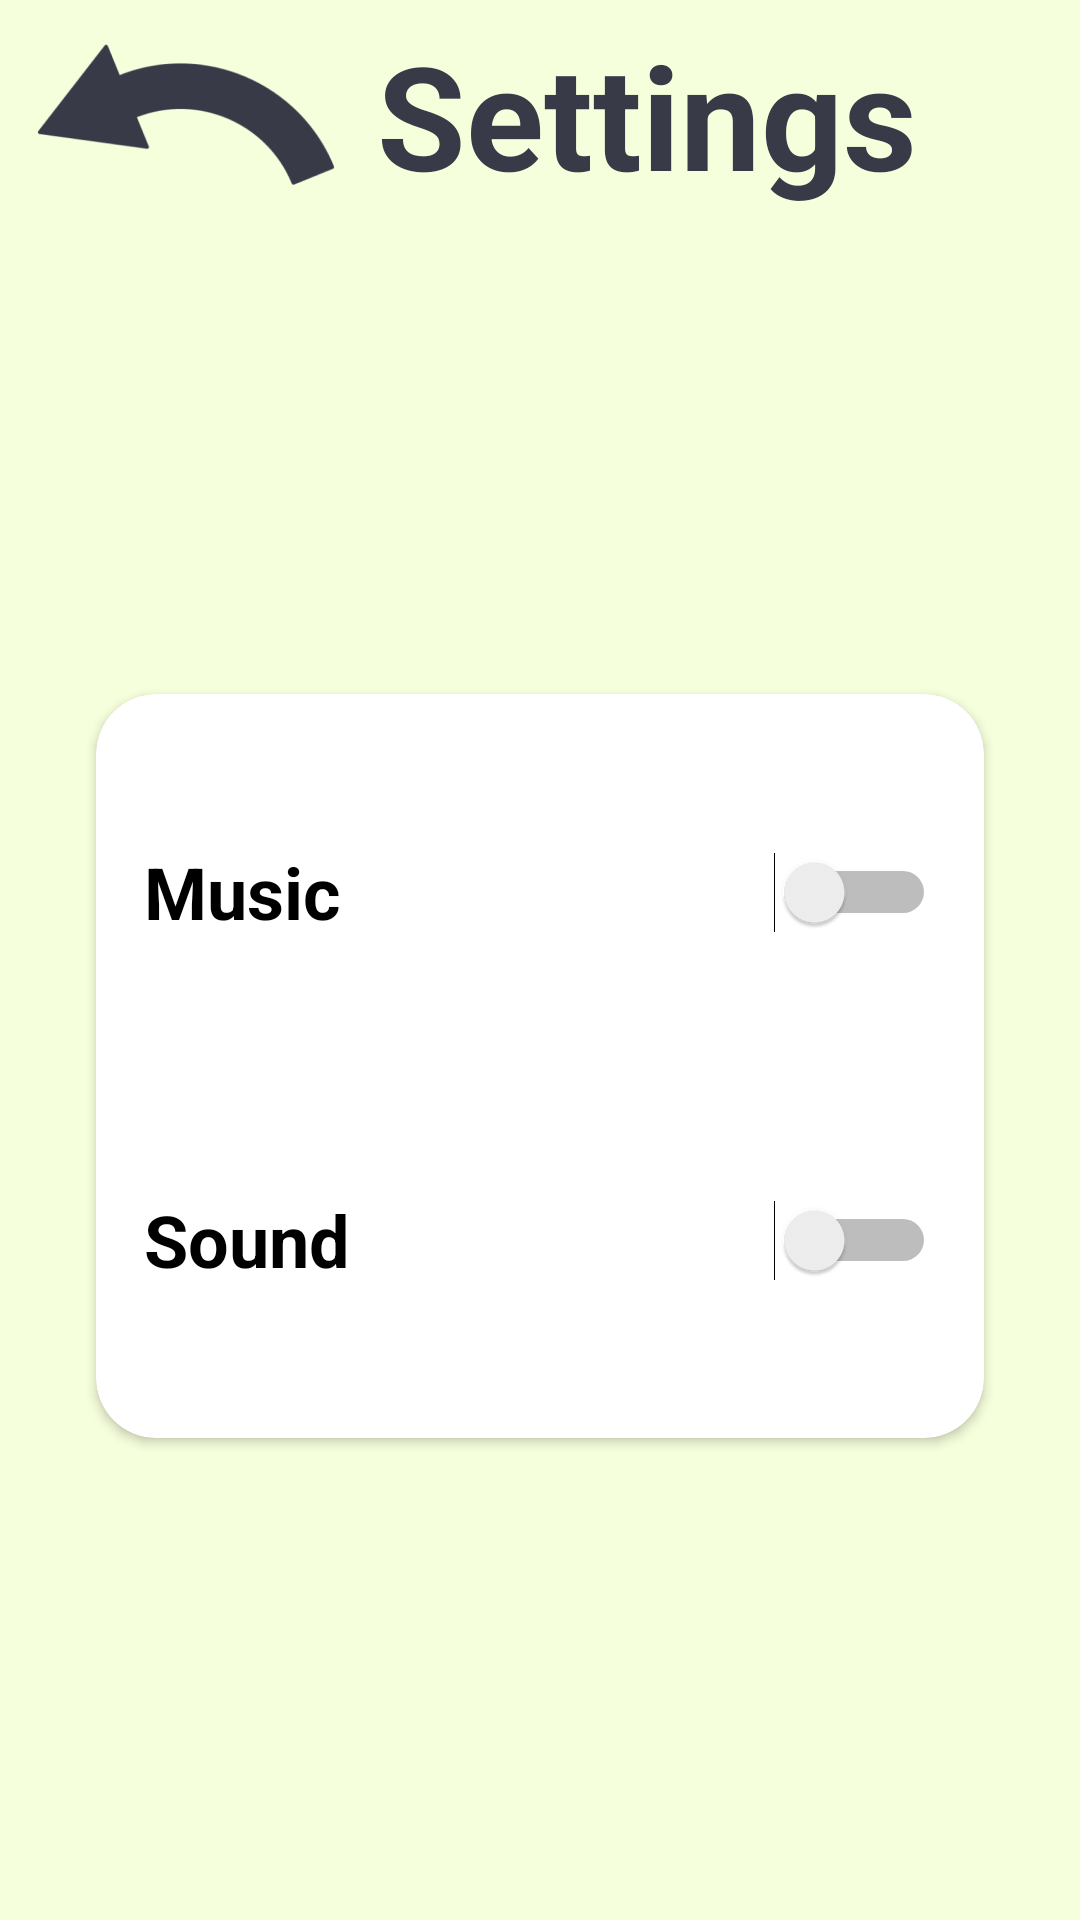

Icon click points for this 1080×1920 phone screenshot, format [x,y]:
back: [186,114]
